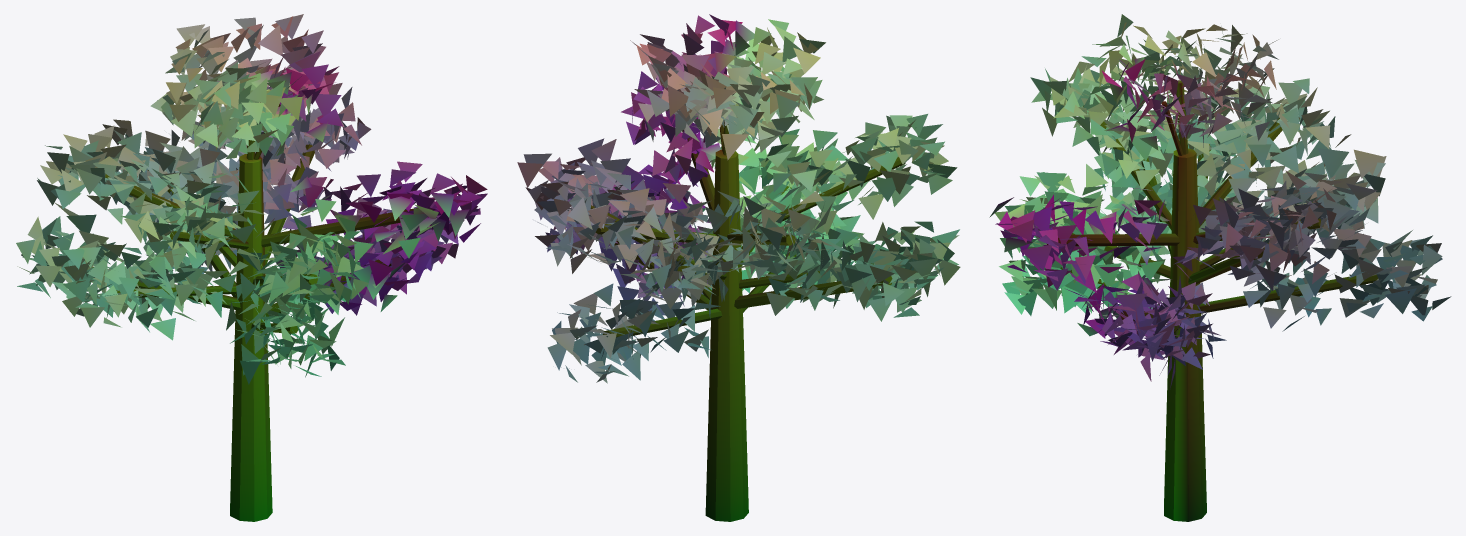
File: mature_broadleaf_03.glb
The picture shows the model from 3 angles, left to right: view 1: azimuth 30°, elevation 25°; view 2: azimuth 150°, elevation 25°; view 3: azimuth 270°, elevation 25°; orthographic projection.
Visible parts, largest first — view 1: mature_broadleaf_03; view 2: mature_broadleaf_03; view 3: mature_broadleaf_03.
Boxes of the visible parts, box(x1,y1,x2,y2) form: mature_broadleaf_03: box(16, 14, 487, 521); mature_broadleaf_03: box(517, 14, 960, 521); mature_broadleaf_03: box(989, 14, 1451, 521).
Bounding box in the file's own units: 15.06 × 16.01 × 14.23.
